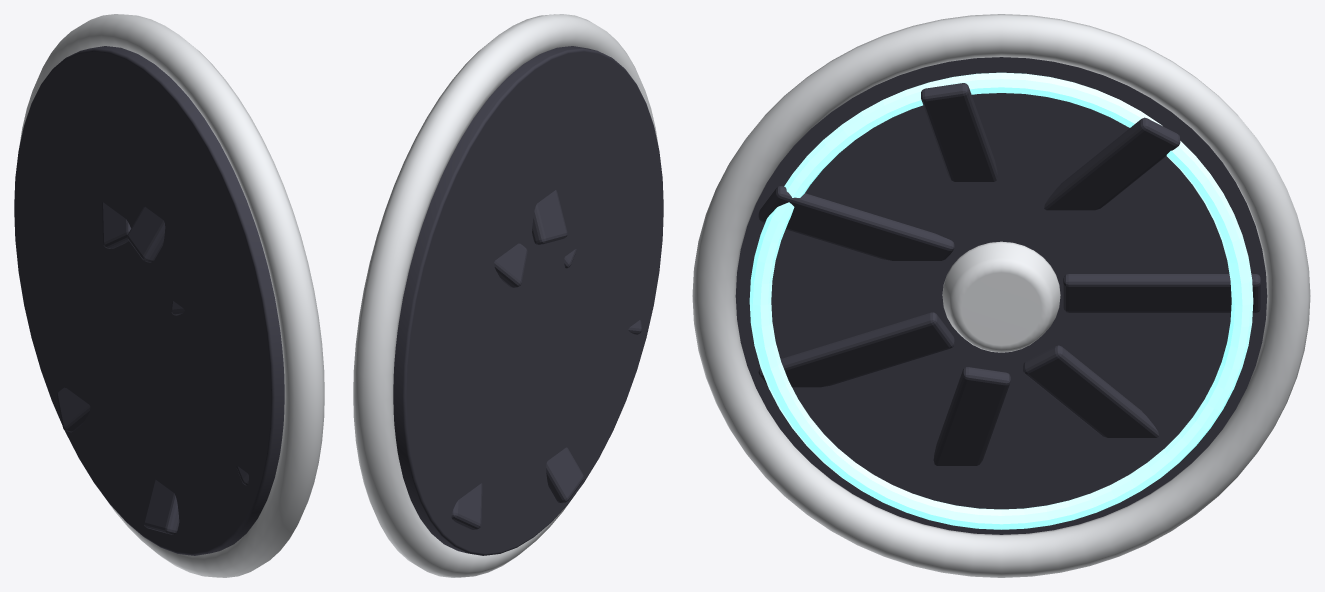
Rendered from rim-neon.glb.
The picture shows the model from 3 angles, left to right: view 1: azimuth 30°, elevation 25°; view 2: azimuth 150°, elevation 25°; view 3: azimuth 270°, elevation 25°; orthographic projection. The views are drawn at different scales.
Visible parts, largest first — view 1: dish, lip, blade2, blade5, blade6, blade1; view 2: dish, lip, blade5, blade2, blade1, blade6; view 3: dish, lip, glowring, hub, blade0, blade4, blade3, blade1, blade6, blade5, blade2.
Boxes of the visible parts, <box> form: dish: <box>14,46,284,555</box>; lip: <box>19,14,324,577</box>; blade2: <box>127,207,165,262</box>; blade5: <box>144,479,179,534</box>; blade6: <box>57,387,90,432</box>; blade1: <box>102,202,130,248</box>; dish: <box>393,46,663,555</box>; lip: <box>353,14,658,577</box>; blade5: <box>546,447,583,503</box>; blade2: <box>532,190,567,244</box>; blade1: <box>494,243,527,287</box>; blade6: <box>451,483,482,529</box>; dish: <box>735,57,1267,534</box>; lip: <box>692,14,1310,577</box>; glowring: <box>749,72,1253,529</box>; hub: <box>942,241,1060,352</box>; blade0: <box>1063,274,1260,312</box>; blade4: <box>758,312,954,387</box>; blade3: <box>758,186,954,260</box>; blade1: <box>1044,117,1180,210</box>; blade6: <box>1023,345,1158,437</box>; blade5: <box>933,367,1010,465</box>; blade2: <box>921,83,997,181</box>.
Size of the model in its own units: 0.3093 by 2 by 2.
